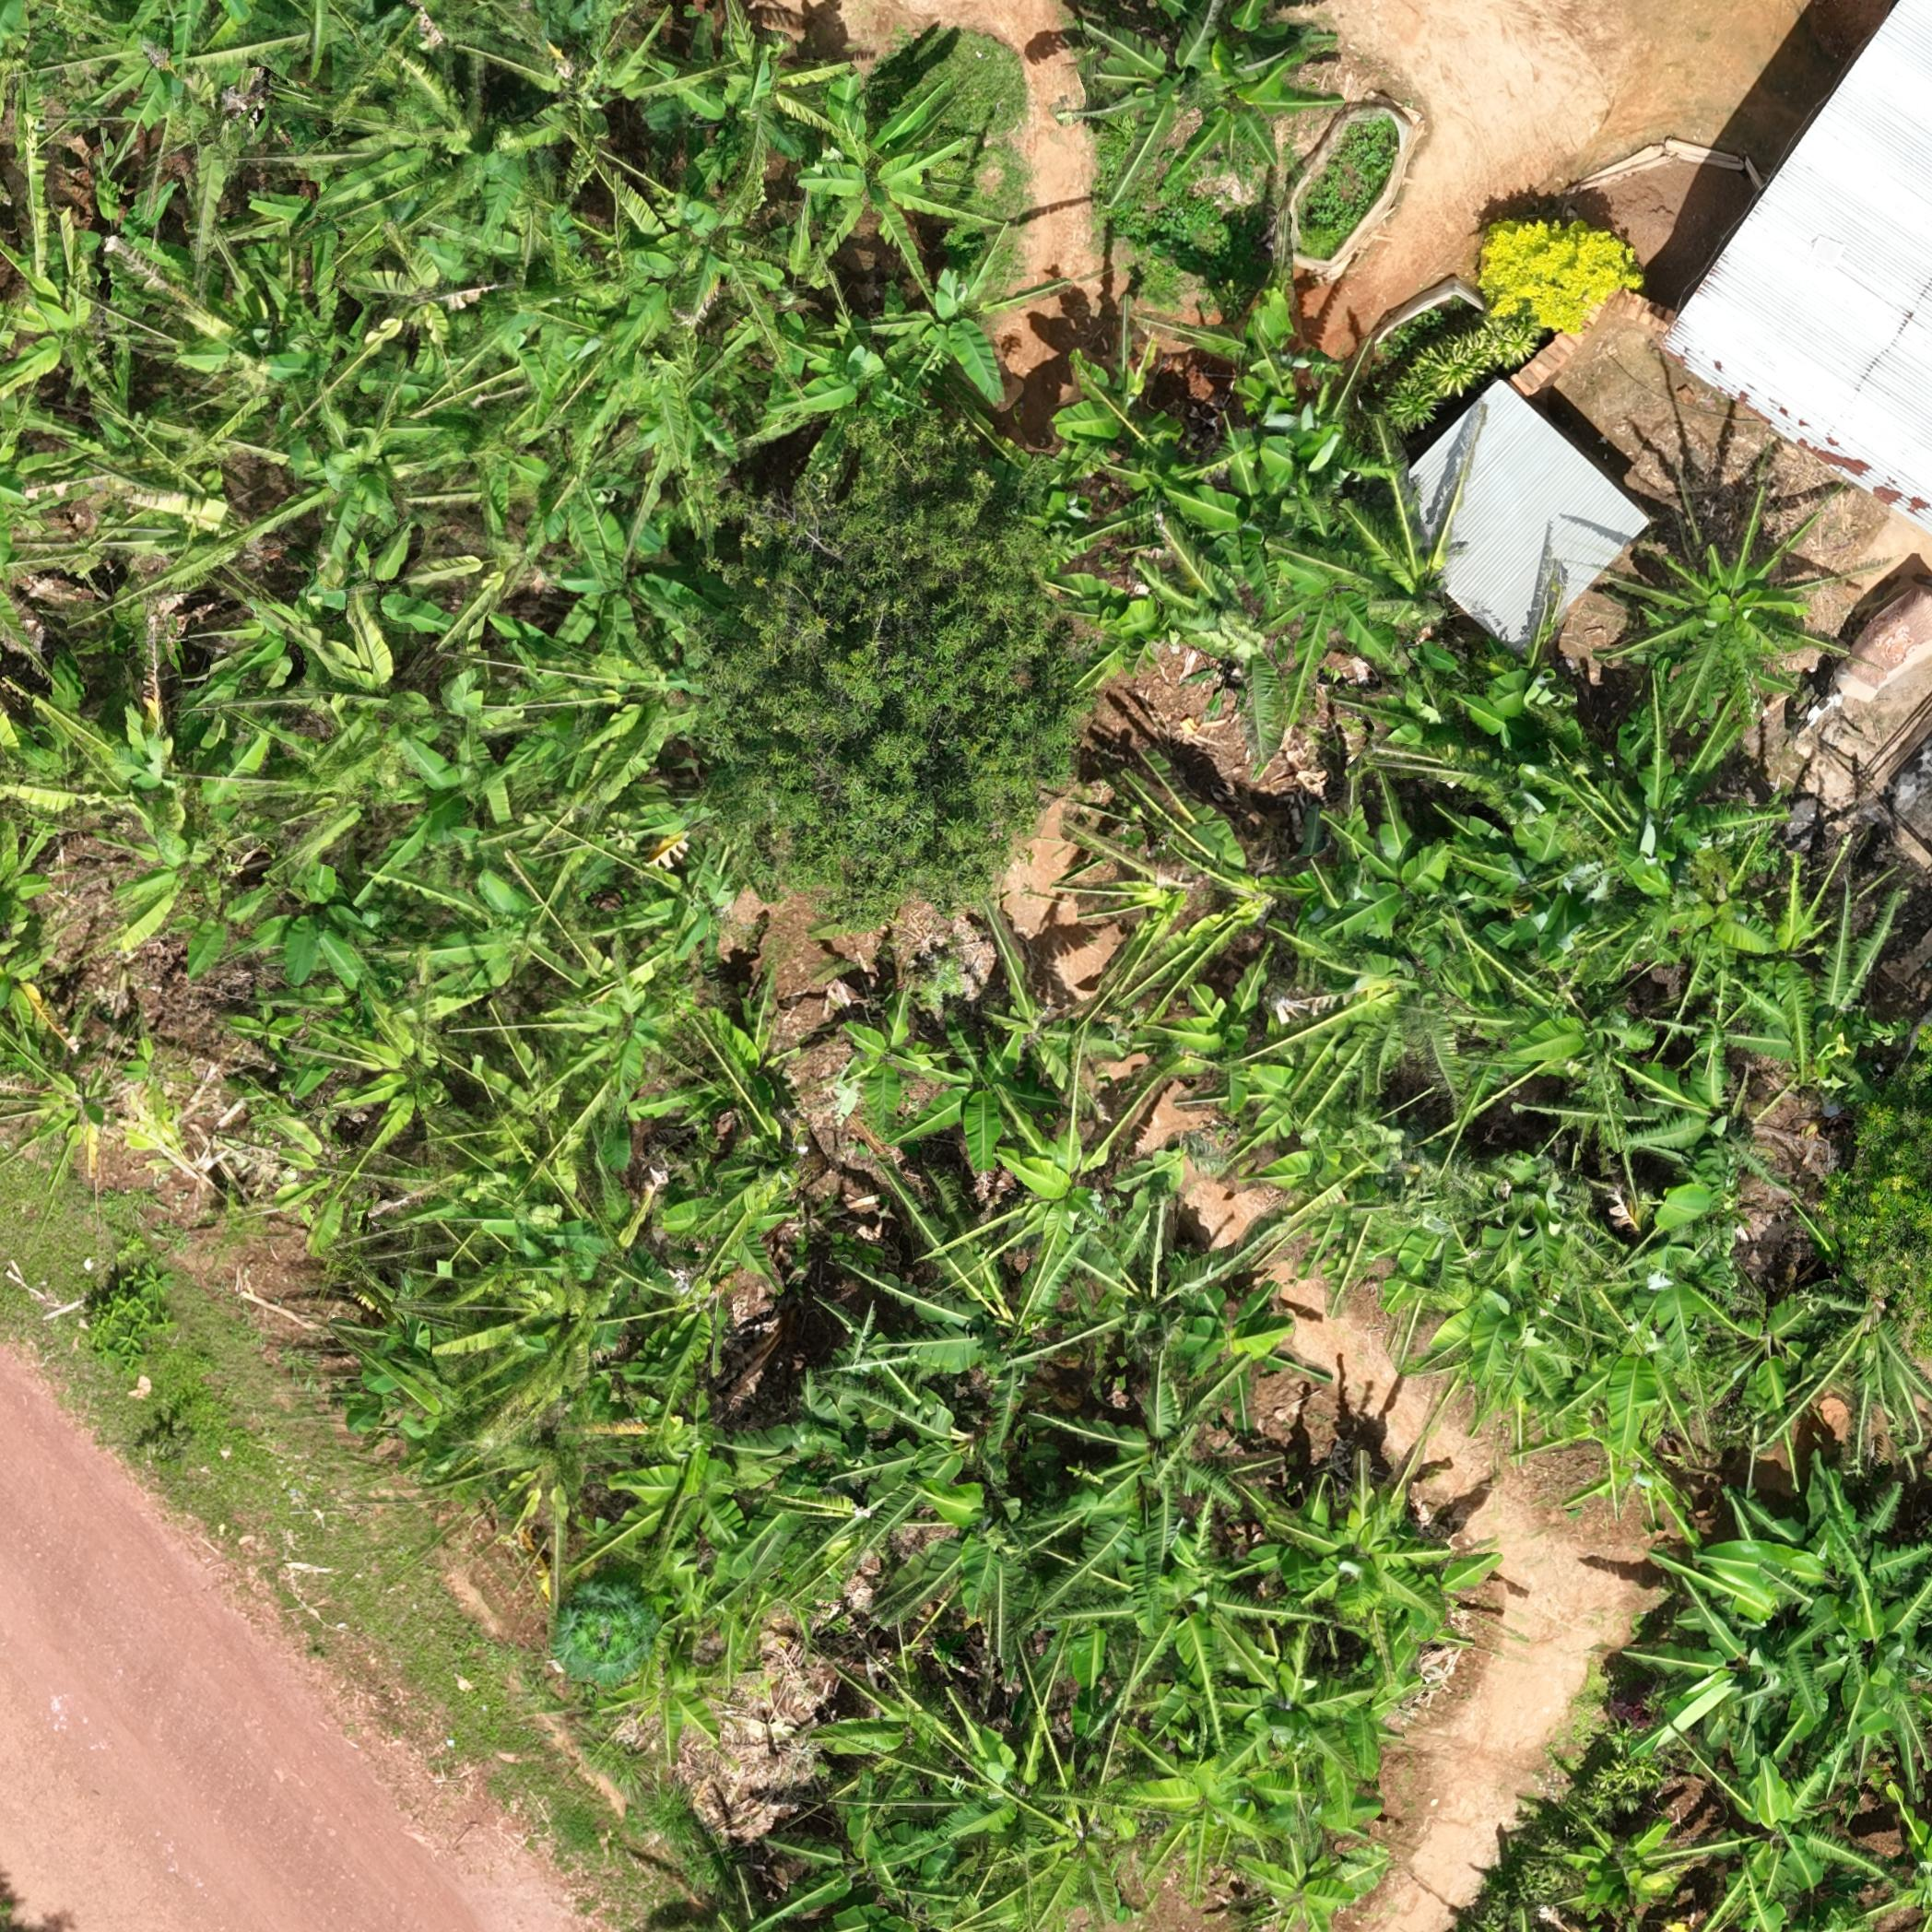Banana: (793, 74, 1007, 295), (1642, 517, 1858, 724), (1123, 754, 1299, 977), (1131, 518, 1316, 727), (1686, 1727, 1898, 1907), (886, 1484, 1070, 1667), (998, 1095, 1148, 1318), (1778, 867, 1916, 1104), (1318, 442, 1474, 642), (1277, 1493, 1476, 1645), (1109, 1562, 1316, 1706), (1316, 938, 1493, 1102), (1182, 1644, 1410, 1767), (1159, 977, 1334, 1138), (237, 812, 389, 996), (1085, 1214, 1217, 1422), (1628, 1615, 1812, 1766), (1741, 1460, 1920, 1612), (824, 1684, 1042, 1805), (1707, 1548, 1891, 1690), (1074, 16, 1214, 202), (276, 1148, 462, 1288), (1065, 1403, 1231, 1559), (1792, 1272, 1921, 1463), (1182, 1258, 1316, 1440), (1187, 48, 1343, 202), (1691, 1253, 1826, 1428), (1111, 1748, 1302, 1870), (419, 870, 587, 1008), (1401, 1260, 1564, 1401), (1058, 805, 1182, 991), (1582, 755, 1762, 881), (717, 62, 855, 225), (359, 1325, 531, 1454), (1642, 961, 1789, 1111), (1267, 1120, 1447, 1242), (915, 1246, 1054, 1403), (479, 21, 651, 149), (497, 1221, 614, 1399), (837, 1339, 971, 1493), (1585, 1306, 1714, 1465), (621, 12, 773, 147), (1555, 1796, 1707, 1930), (550, 510, 678, 669), (587, 839, 738, 973), (1534, 996, 1677, 1136), (99, 809, 235, 955), (961, 924, 1081, 1088), (621, 1369, 757, 1514), (304, 674, 448, 810), (87, 426, 232, 561), (1334, 794, 1465, 943), (1463, 1141, 1608, 1274), (331, 1019, 478, 1150), (885, 267, 1023, 403), (244, 278, 379, 418), (492, 1076, 605, 1240), (1207, 1828, 1389, 1928), (373, 225, 504, 364), (1534, 855, 1667, 991), (1456, 764, 1566, 925), (108, 218, 223, 368), (545, 697, 681, 819), (771, 1833, 945, 1928), (1279, 538, 1403, 671), (41, 12, 212, 108), (832, 998, 943, 1141), (414, 326, 529, 464), (30, 221, 124, 387), (320, 540, 476, 639), (1649, 862, 1789, 971), (25, 1051, 127, 1200), (925, 1042, 1031, 1184), (1431, 639, 1568, 748), (1644, 1157, 1794, 1256), (628, 1477, 747, 1599), (449, 683, 550, 823), (278, 430, 416, 529), (619, 1269, 722, 1398), (341, 37, 455, 152), (1187, 306, 1318, 405), (423, 405, 541, 513), (524, 315, 644, 421), (748, 1479, 853, 1601), (46, 708, 186, 798), (702, 1157, 798, 1288), (667, 1026, 793, 1125), (561, 980, 679, 1085), (1077, 580, 1196, 671), (1224, 412, 1339, 502), (232, 200, 364, 272), (1063, 363, 1178, 446), (646, 1651, 725, 1760), (692, 1569, 778, 1668), (234, 587, 308, 695), (249, 7, 354, 76)
